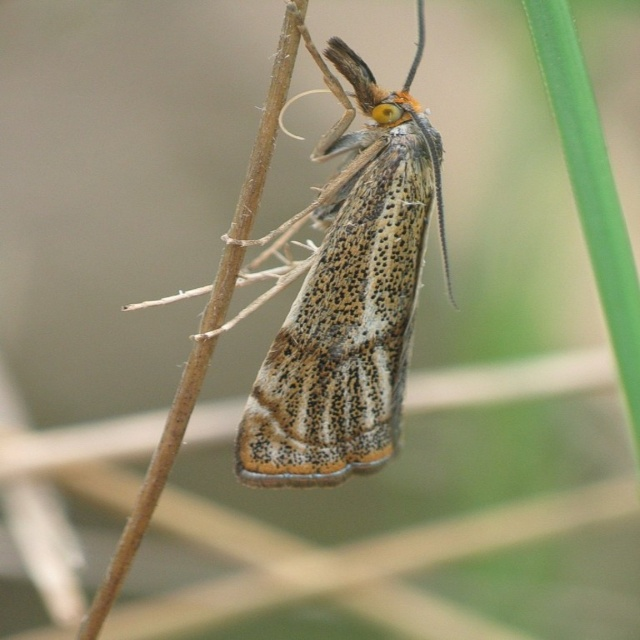Moths and butterflies: (118, 0, 468, 493)
